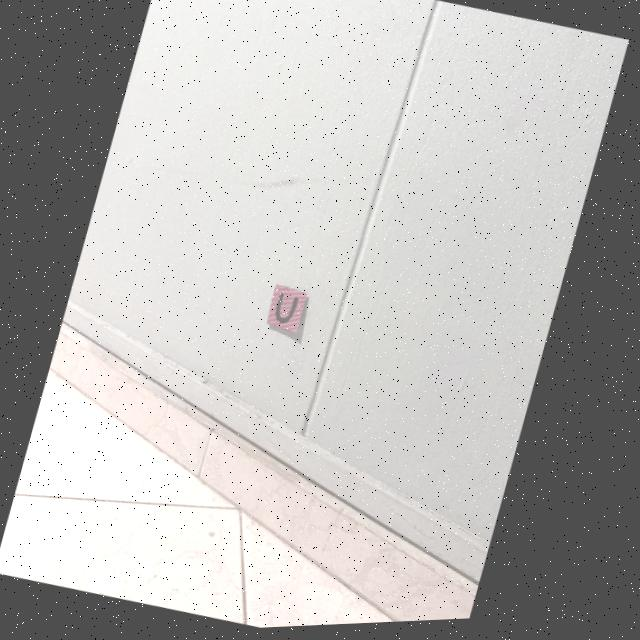U: (277, 295, 299, 325)
